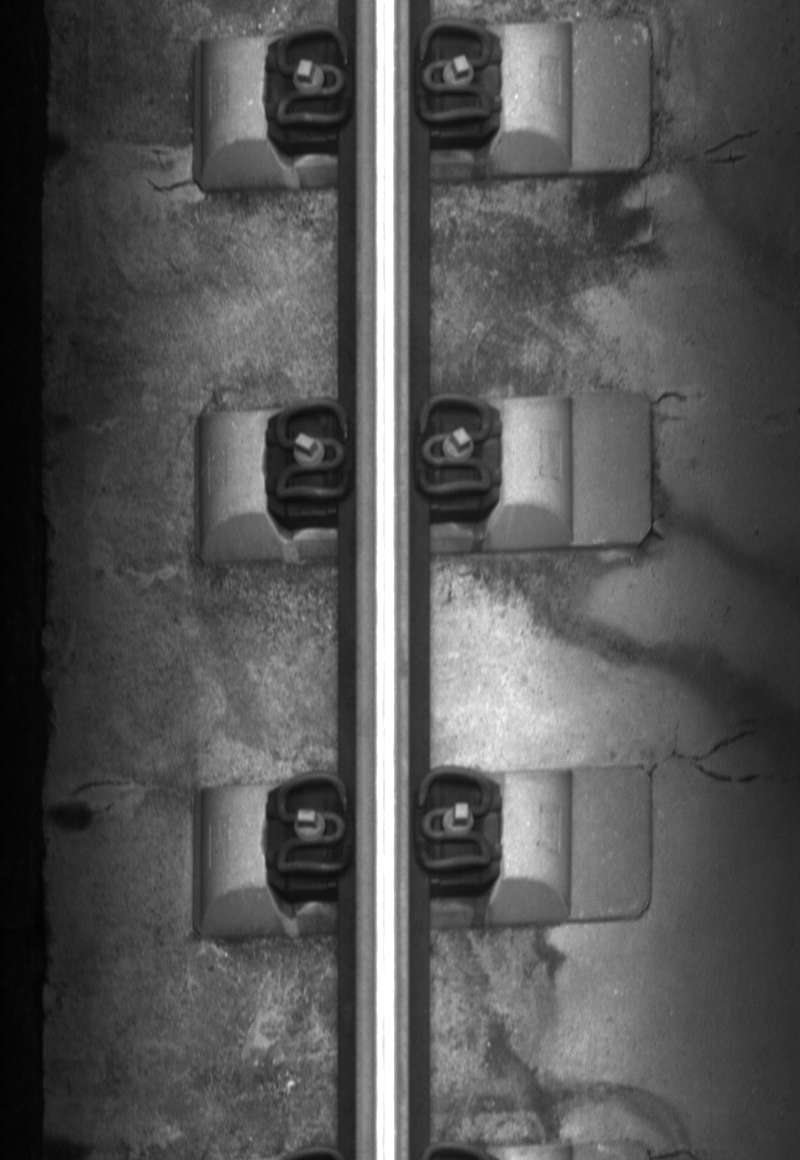l_faster: (270, 393, 354, 513), (270, 769, 354, 884), (270, 22, 354, 135)
r_faster: (413, 390, 495, 498), (415, 765, 495, 875), (415, 17, 494, 128)
